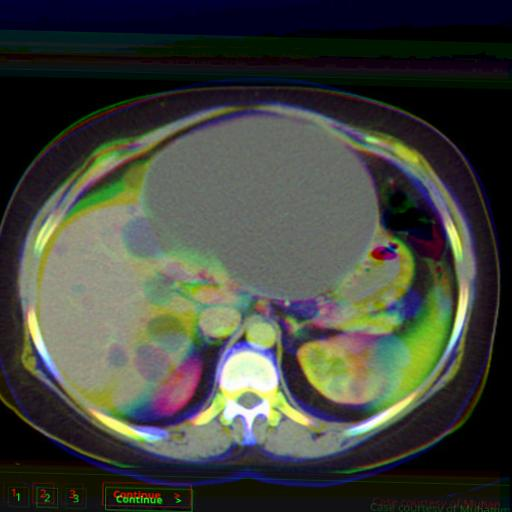Cyst: (142, 115, 378, 298), (122, 217, 162, 257), (148, 316, 188, 352), (135, 344, 170, 379), (108, 343, 127, 366)
